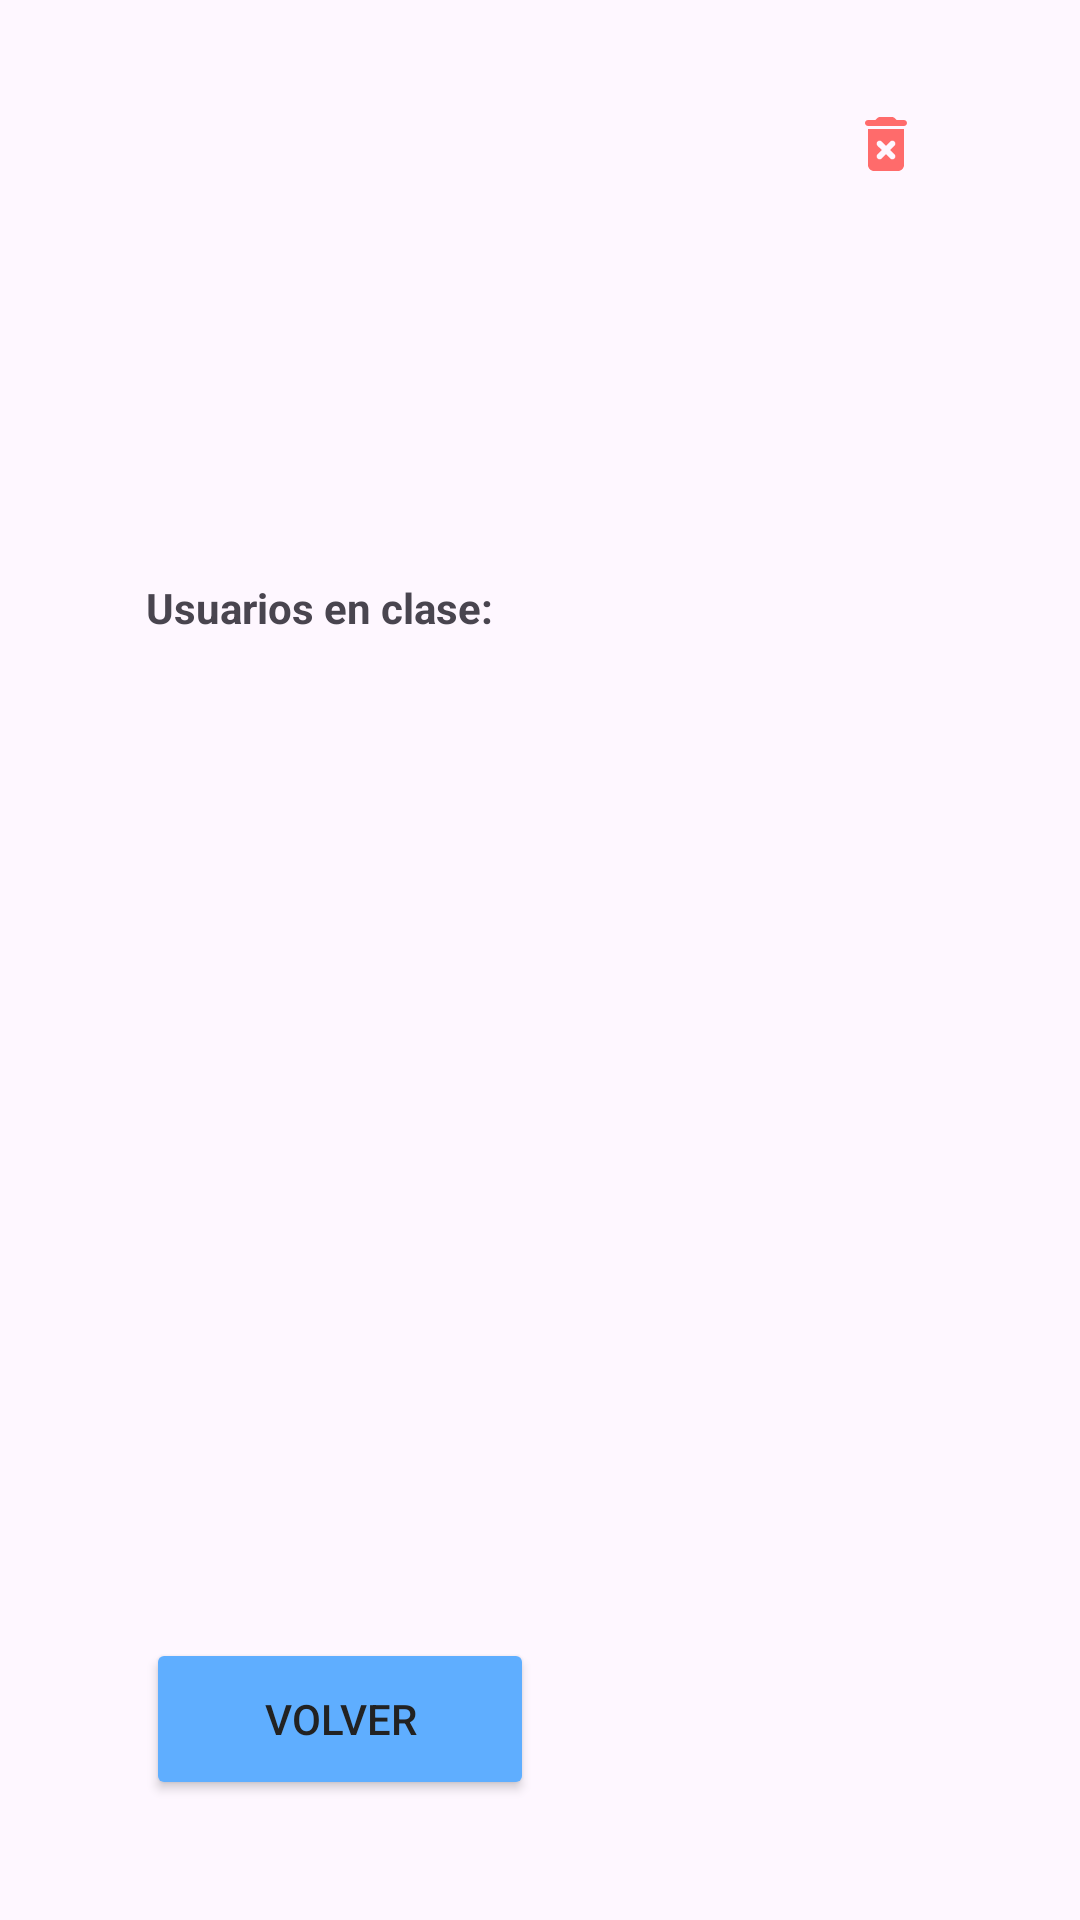

Screen size 1080px x 1920px. Icon name, then its box in pixels as (x1, y1, x2, y2):
delete: (865, 117, 907, 171)
